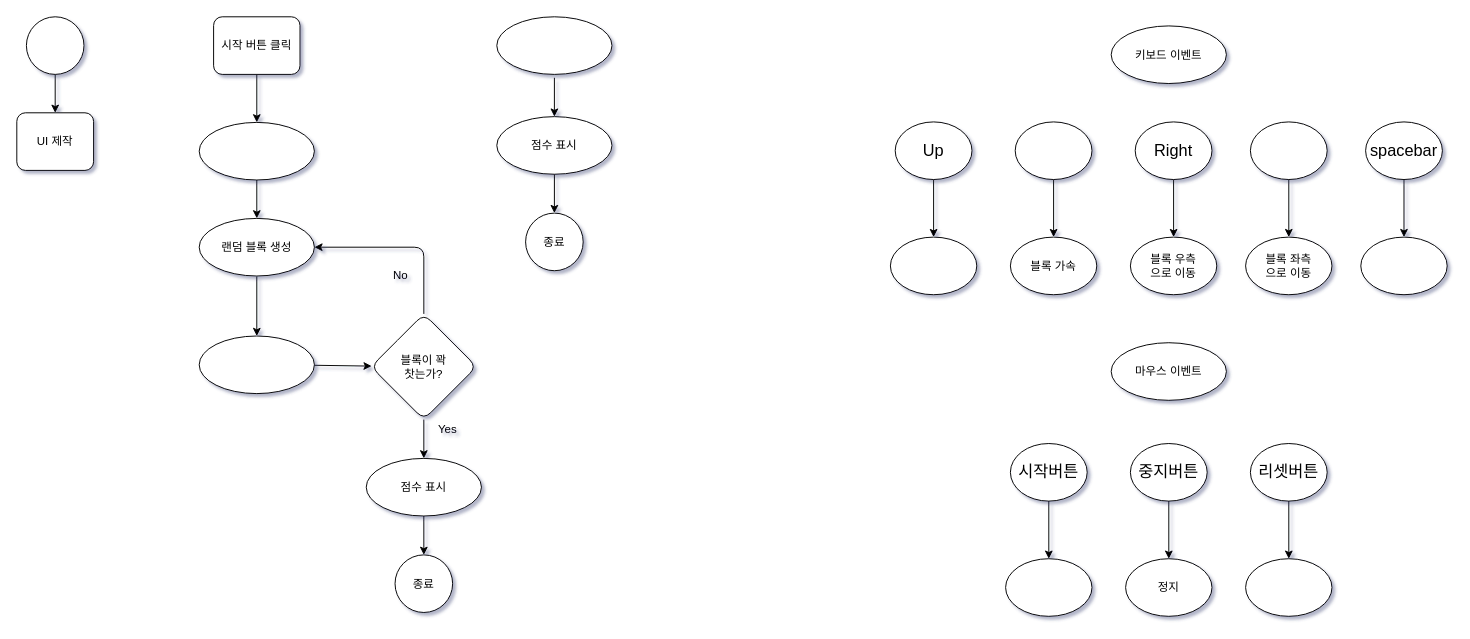
This 1470x639 diagram has some shape labels left out. Each missing label, with the centre of its shape:
5분 경과: pixel 554 45
5분 타이머 시작 (게임 시간): pixel 256 150
Down: pixel 1053 150
Left: pixel 1288 150
리셋: pixel 1288 587
블록 바닥으로: pixel 1403 265
블록 형태 변환: pixel 933 265
생성된 블록 아래로 떨어진다.: pixel 256 364
시작: pixel 54 45
시작 / 재개: pixel 1048 587
